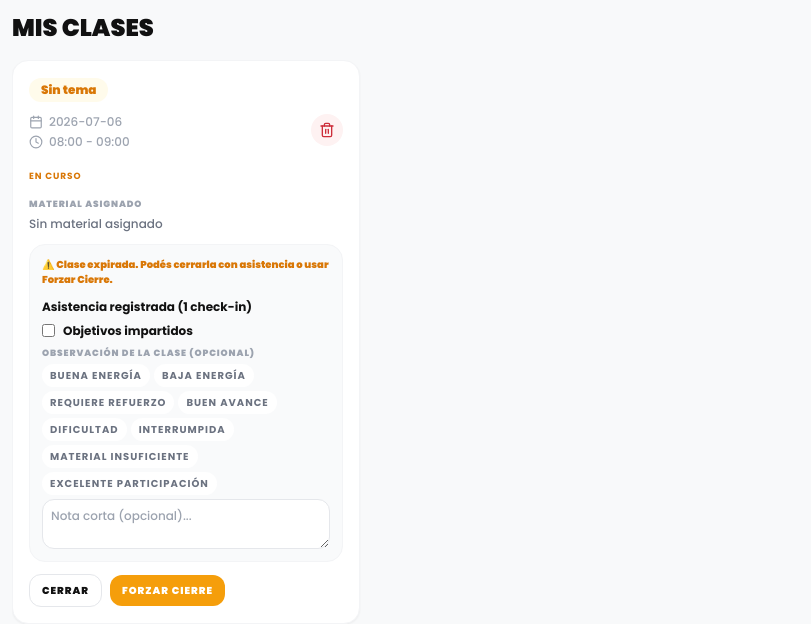
Test: MisClasesView › si falla el registro de auditoria, muestra una advertencia visible sin revertir el guardado principal
Expected: the text "En curso" is shown, [29,170,81,182]
Expected: the text "Asistencia registrada (1 check-in)" is shown, [42,298,252,314]
Step 1. Click the checkbox labelled "Objetivos impartidos" → (48, 330), box [42,324,55,337]
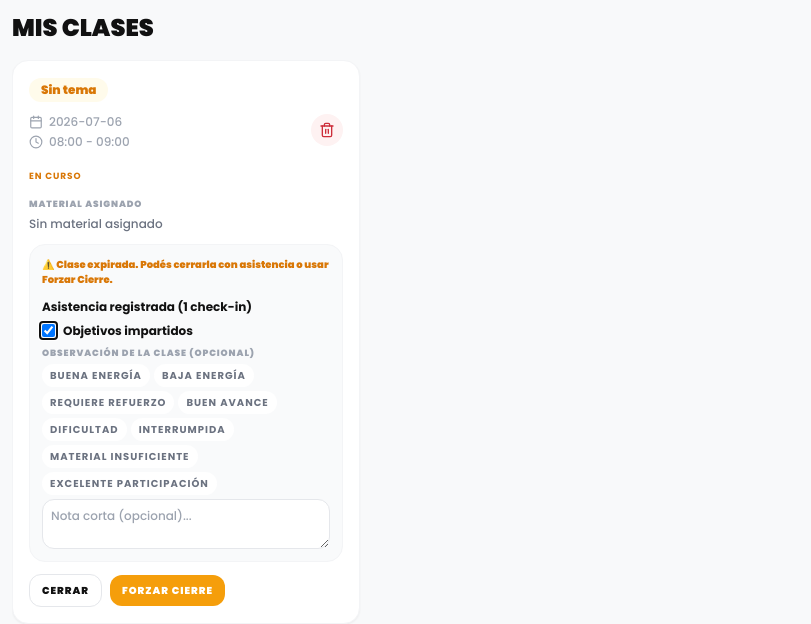
Step 2. Click the button "Cerrar" → (65, 590), box [29,574,102,607]
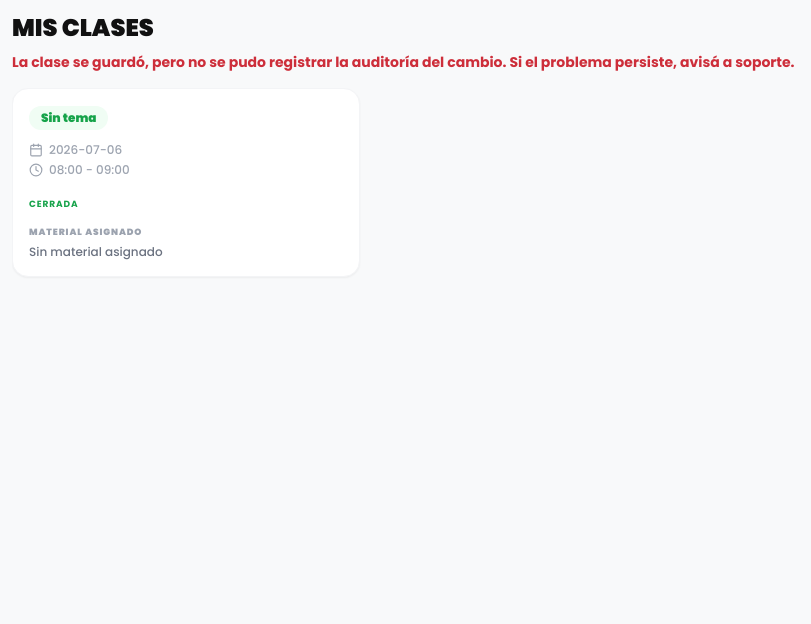
Result: the text "Cerrada" is shown at [29,198,79,210]
Result: the text "no se pudo registrar la auditor" is shown at [12,52,795,72]
